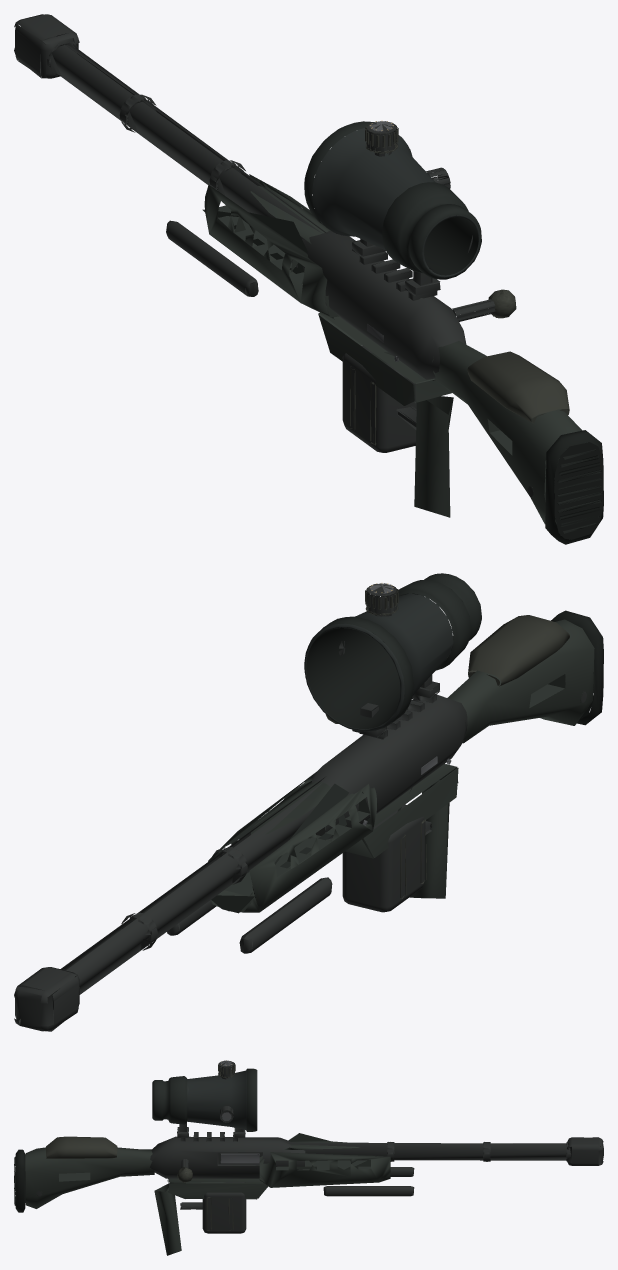
The model's file is marksman_mobile.glb.
The picture shows the model from 3 angles, top to bottom: view 1: azimuth 30°, elevation 25°; view 2: azimuth 150°, elevation 25°; view 3: azimuth 270°, elevation 25°; orthographic projection. The views are drawn at different scales.
Parts seen in each view (by area): view 1: WeaponBody, Butt stock, Butt plate, Magazine; view 2: WeaponBody, Butt stock, Magazine, Butt plate; view 3: WeaponBody, Butt stock, Magazine, Butt plate.
Part boxes in pixels (x1,y1,x2,y2): WeaponBody: (14, 14, 569, 517); Butt stock: (432, 341, 587, 523); Butt plate: (545, 430, 603, 544); Magazine: (342, 345, 417, 452); WeaponBody: (14, 573, 586, 1031); Butt stock: (447, 619, 595, 743); Magazine: (342, 804, 426, 912); Butt plate: (551, 610, 603, 725); WeaponBody: (36, 1060, 603, 1255); Butt stock: (25, 1147, 154, 1208); Magazine: (202, 1182, 246, 1233); Butt plate: (14, 1149, 25, 1212).
Bounding box in the file's own units: 0.2052 × 0.481 × 1.35.
Materials: 9 (1 with a texture image).
